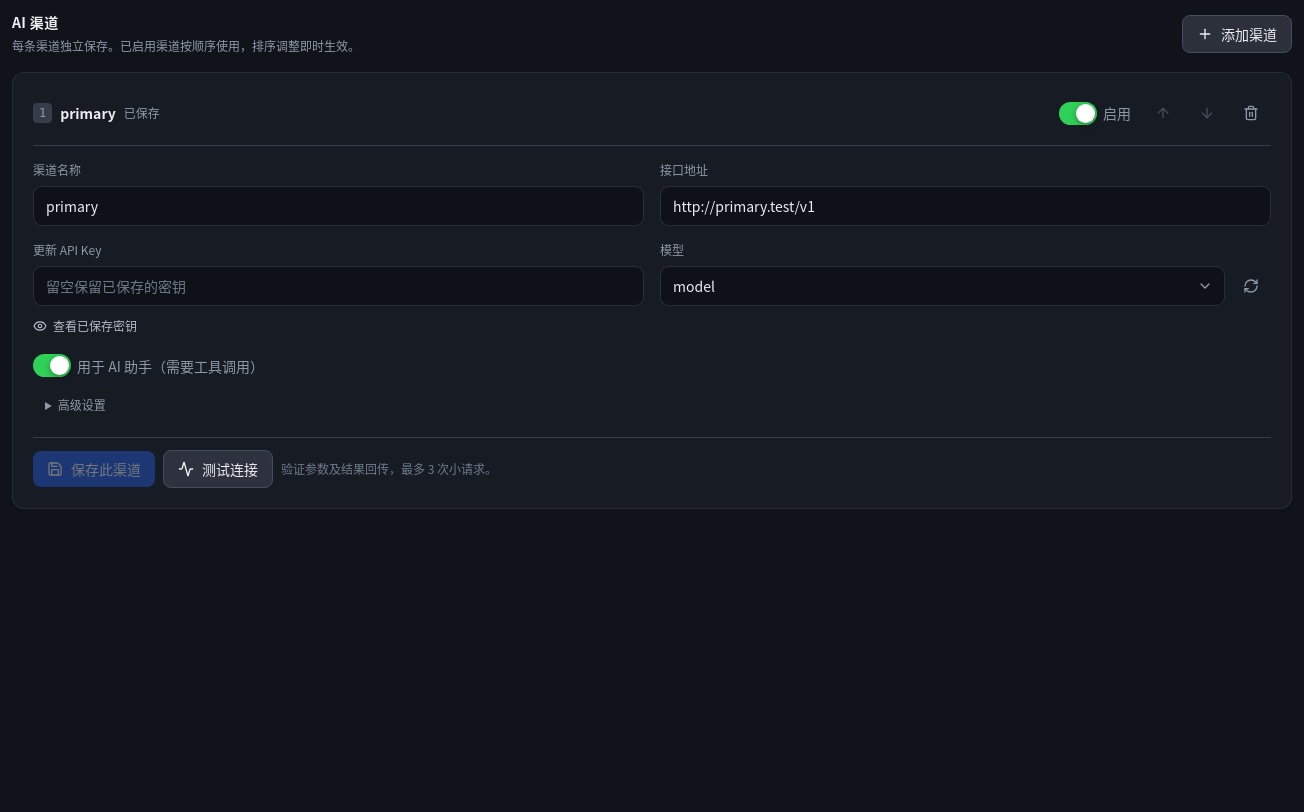
Test: AI 渠道设置 › 模型列表和测试结果独立，逐项呈现不把部分成功显示为全部通过
Step 1. Click the button "测试连接" → click(218, 469), box [163, 450, 273, 488]
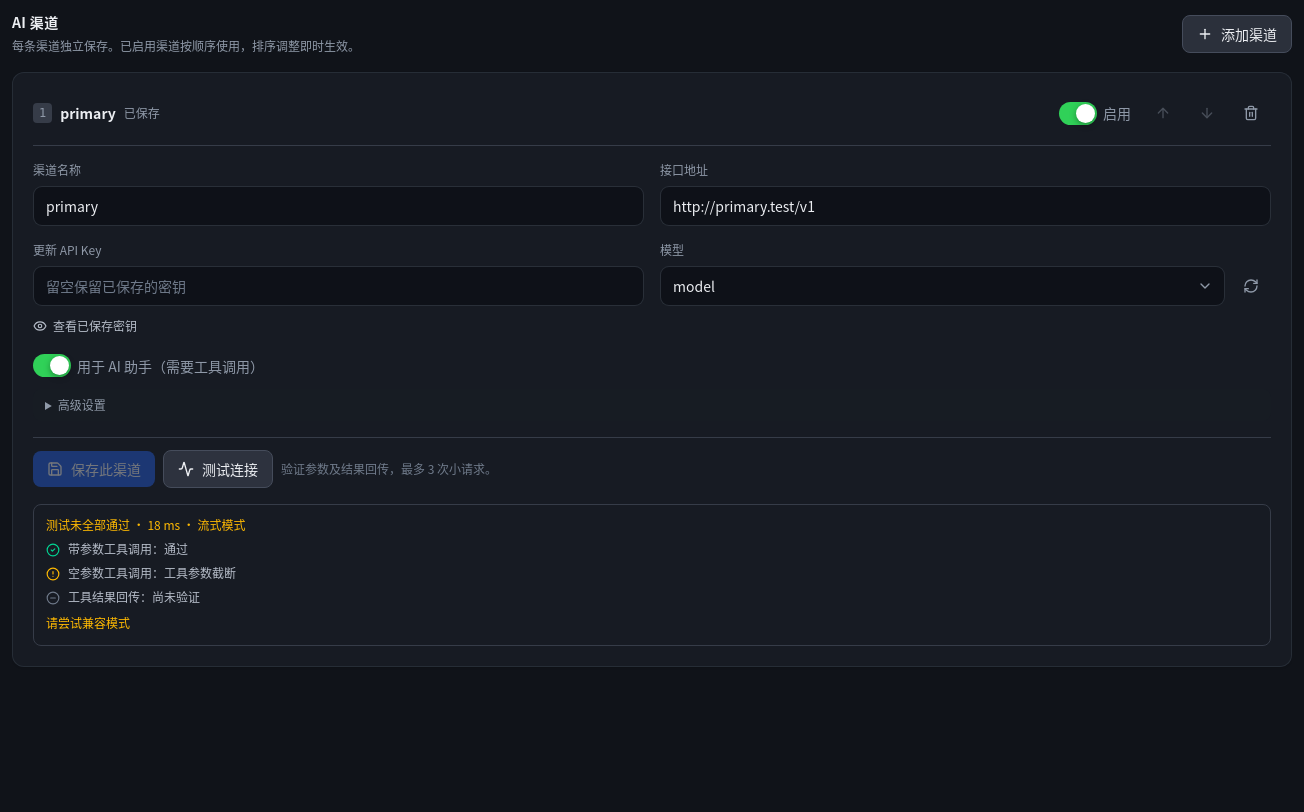
Step 2. Click the button named "获取此渠道的模型" → click(1251, 286), box [1231, 266, 1271, 306]
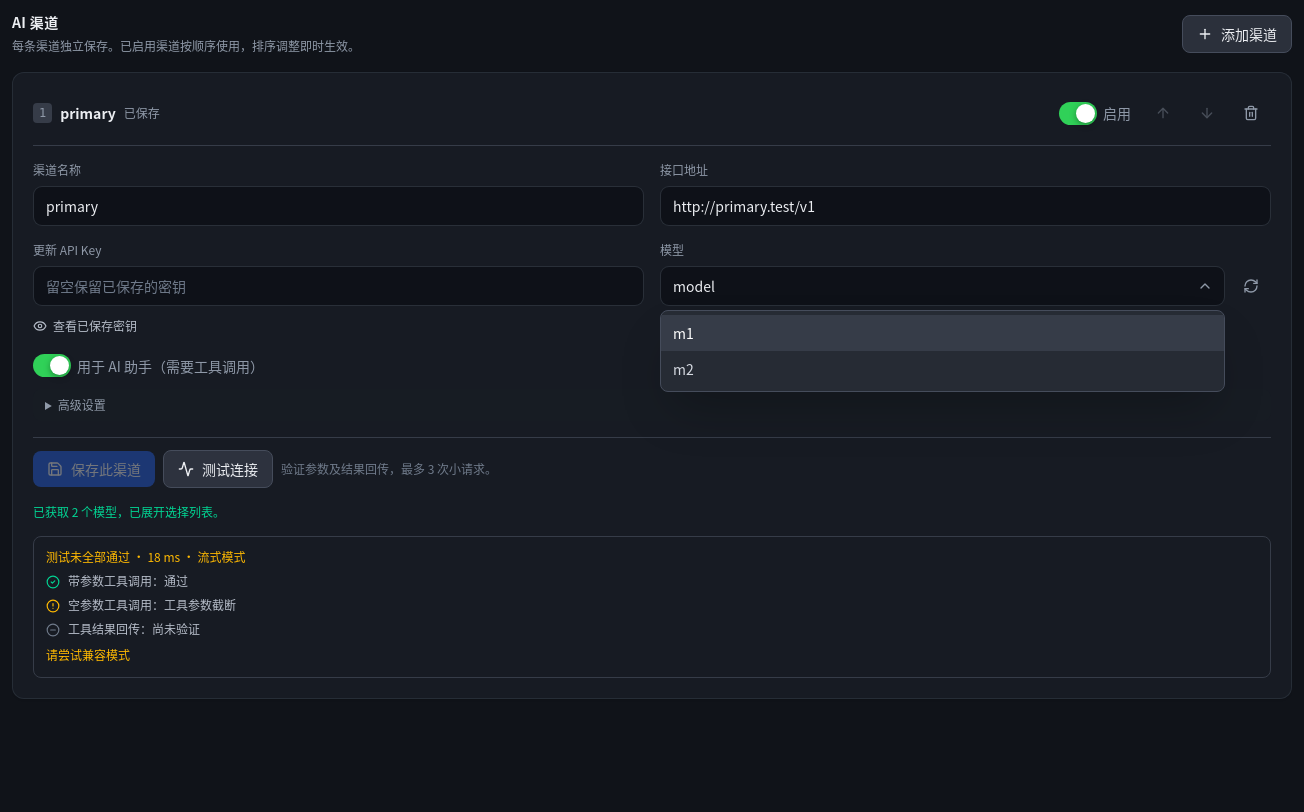
Expected: the text "测试未全部通过" is shown, [46, 548, 246, 565]
Expected: the text "工具参数截断" is shown, [68, 596, 236, 613]
Expected: the number of options is 2, [661, 315, 1224, 351]; [661, 351, 1224, 387]
